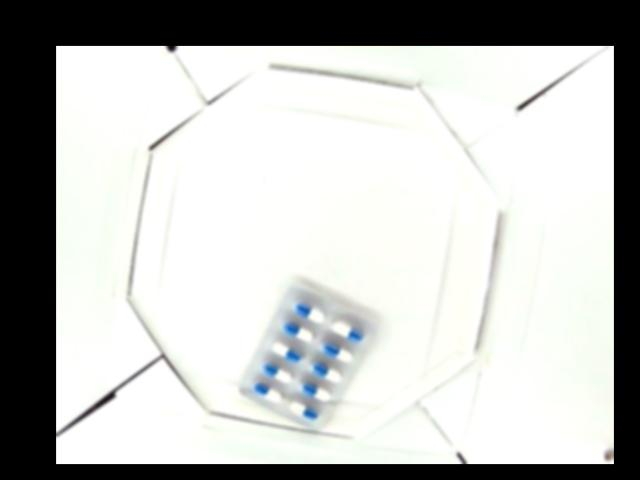Medicine: (237, 282, 378, 434)
